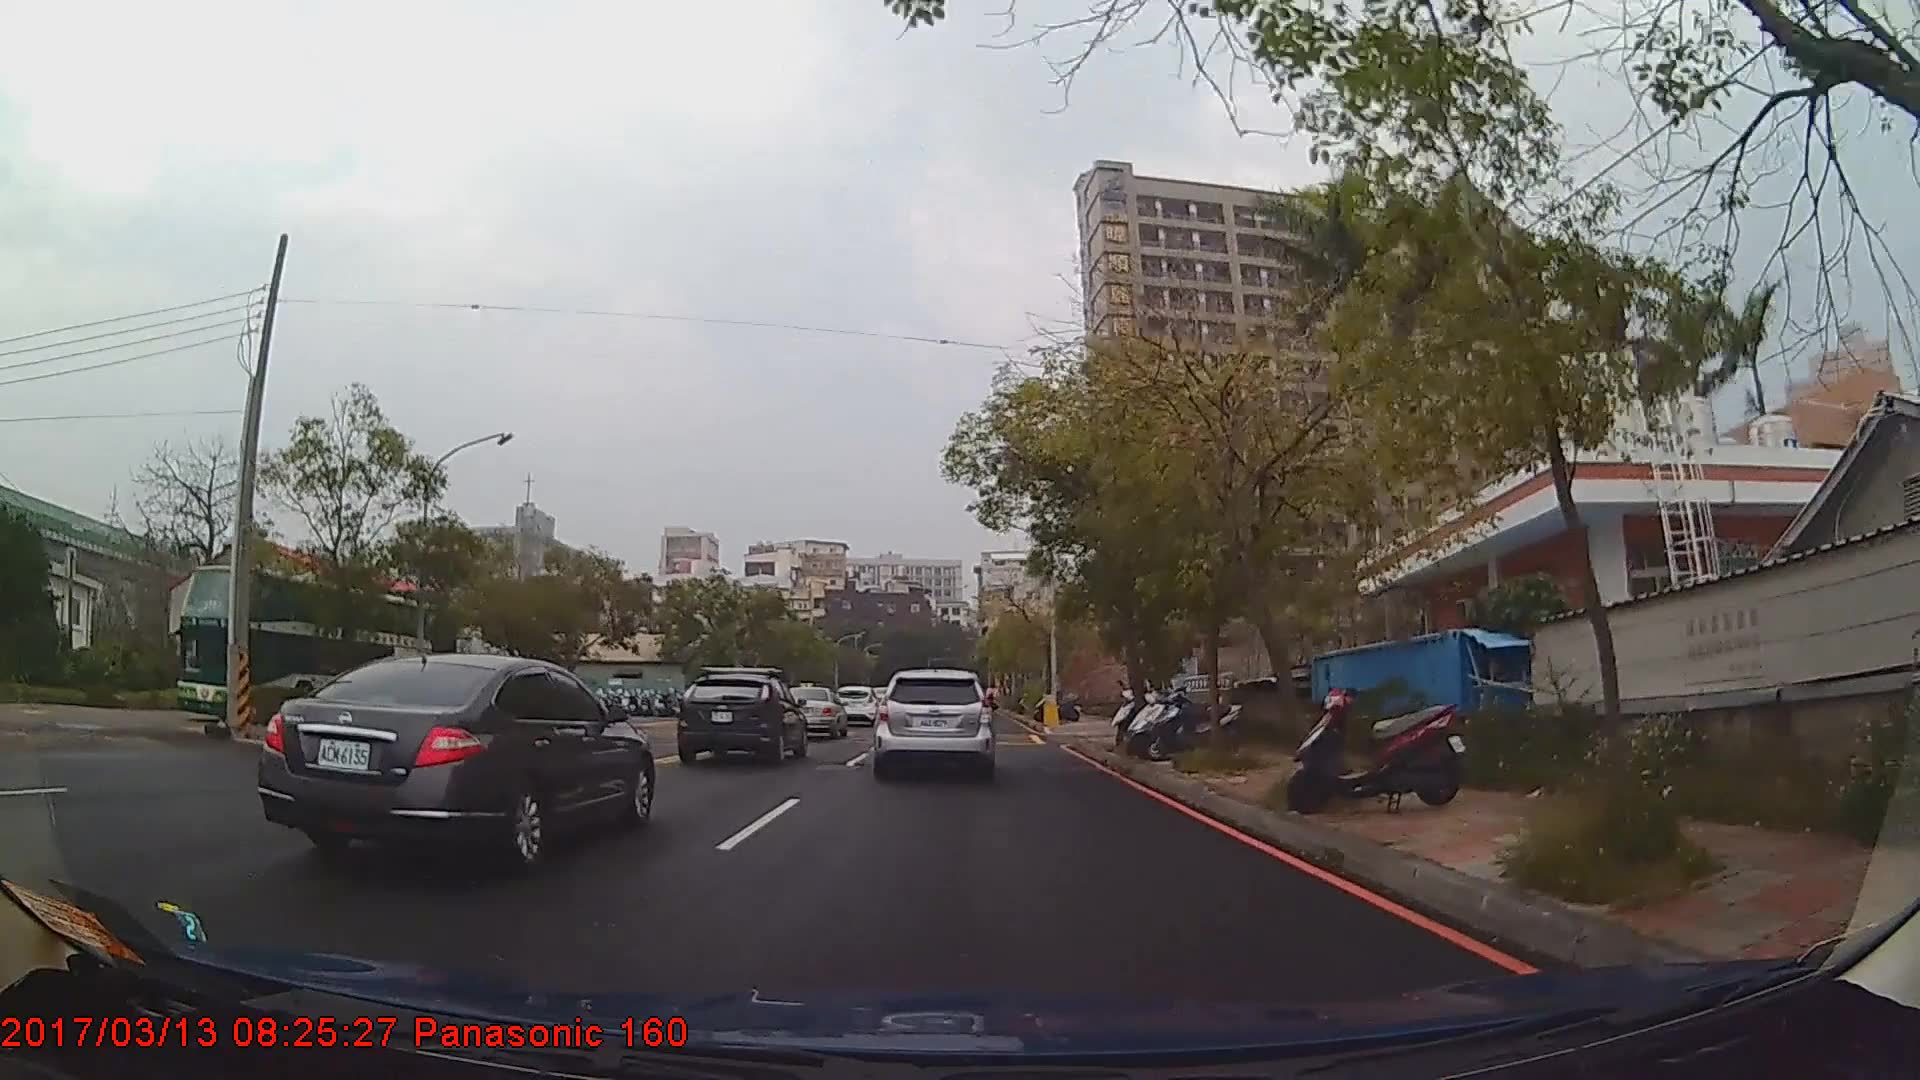vehicle: (256, 647, 658, 869), (175, 563, 433, 733), (876, 666, 993, 778), (674, 670, 807, 767), (782, 683, 847, 738), (833, 683, 880, 725)
